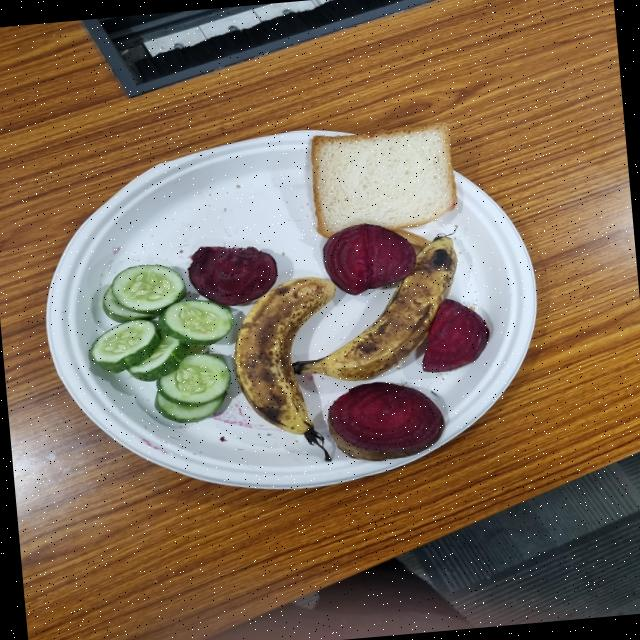banana: (121, 232, 317, 351), (44, 185, 264, 261)
cucumber: (210, 83, 290, 147), (85, 131, 169, 185), (179, 126, 241, 185), (146, 76, 215, 125), (134, 106, 210, 147)
